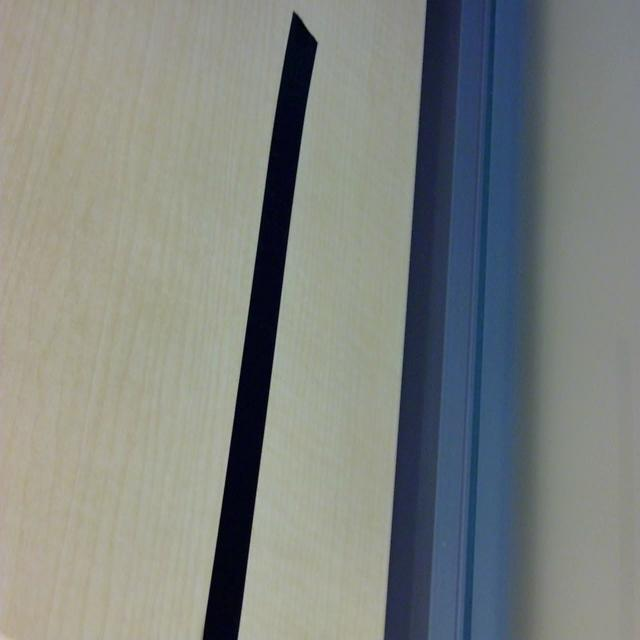tape: (202, 9, 317, 640)
